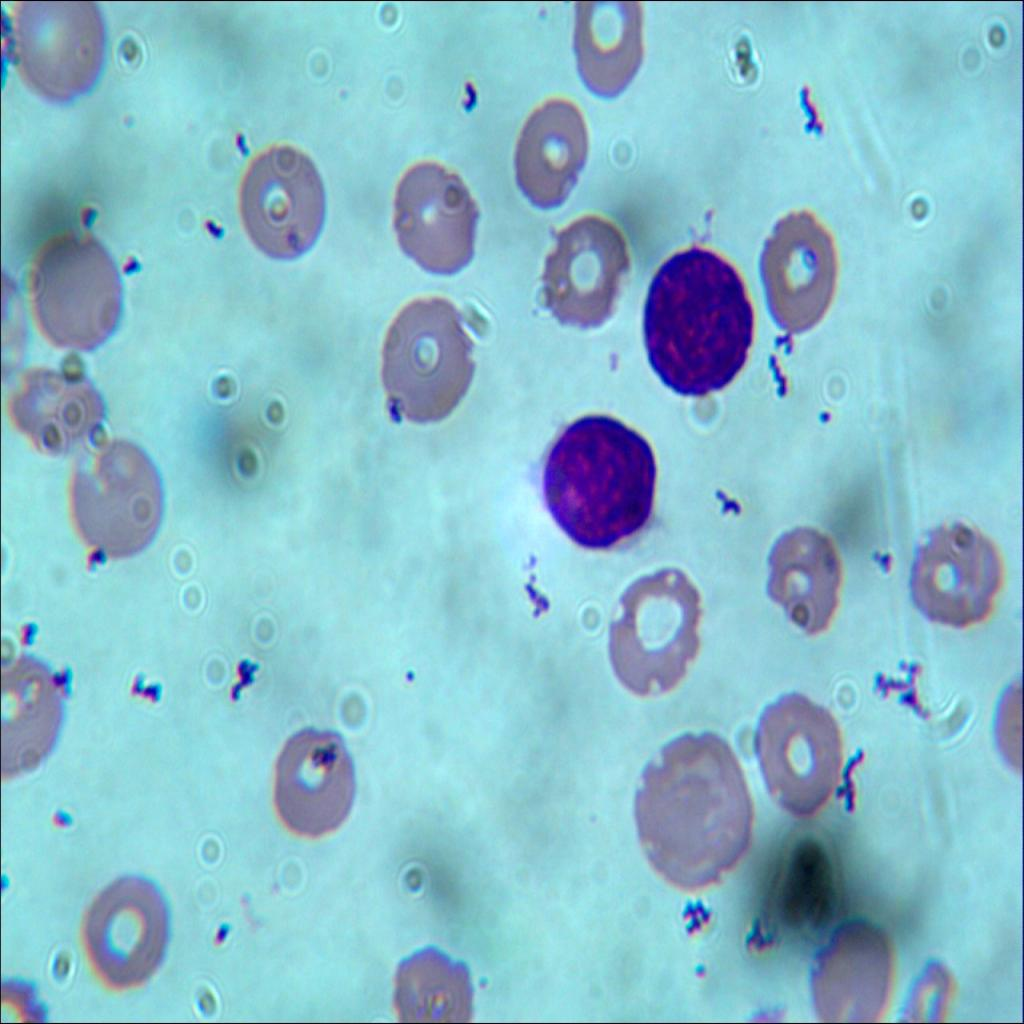Eritrosit: (638, 725, 748, 894), (70, 421, 164, 574), (898, 508, 1011, 634), (529, 202, 639, 328), (603, 566, 709, 696), (71, 865, 175, 997), (388, 150, 496, 276), (368, 299, 482, 417), (238, 138, 331, 282), (750, 685, 848, 821), (26, 225, 132, 348), (0, 345, 108, 465), (264, 711, 358, 848), (510, 86, 606, 212), (742, 208, 839, 329), (9, 2, 109, 108), (800, 914, 894, 1023), (762, 517, 844, 634), (0, 645, 63, 794), (568, 0, 658, 101), (384, 938, 470, 1023)
Limfoblast: (536, 412, 666, 554), (641, 248, 756, 397)
Platelet: (209, 914, 239, 957), (684, 948, 714, 982), (813, 394, 844, 426), (395, 657, 421, 692), (529, 0, 550, 32)
